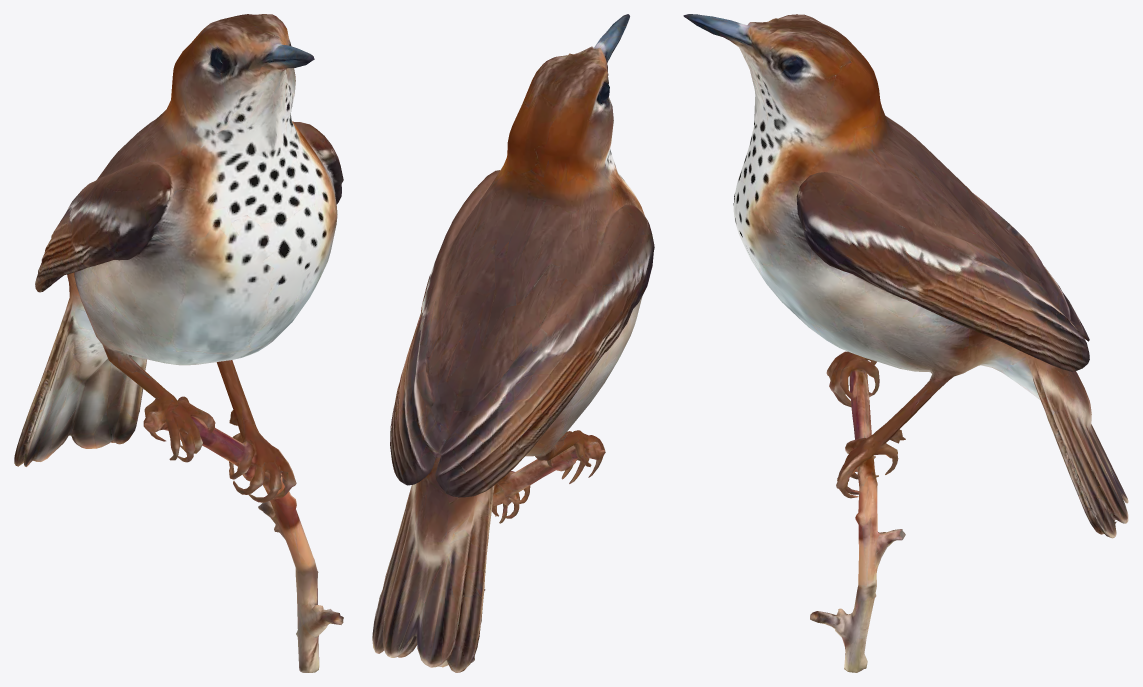
Rendered from bird-zanglijster.glb.
3 renders of one model, left to right at view 1: azimuth 30°, elevation 25°; view 2: azimuth 150°, elevation 25°; view 3: azimuth 270°, elevation 25°, orthographic. The views are drawn at different scales.
Bounding box in the file's own units: 0.614 × 1.91 × 1.25.
Materials: 1 (1 with a texture image).
